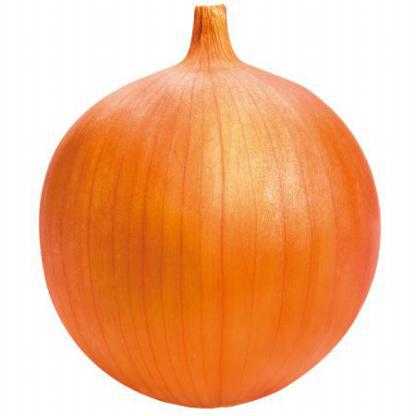onion: (37, 31, 402, 415)
